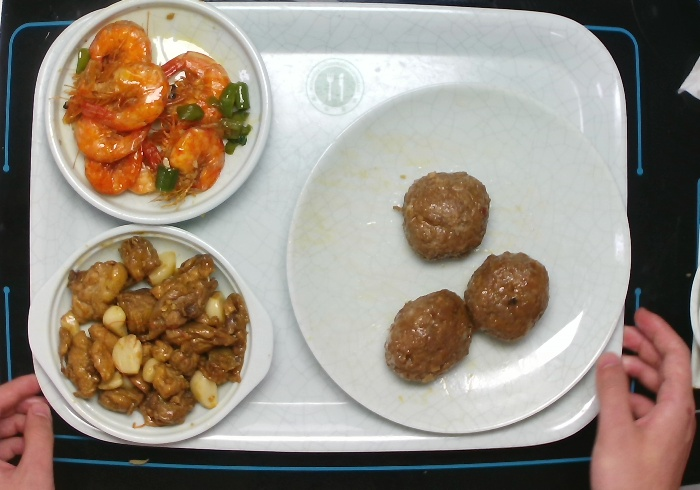JYsf-Da_Yuan_Pan: (282, 84, 634, 439)
JYsf-Shuang_Er_Pan: (27, 224, 280, 448)
JYsf-Xiao_Yuan_Pan: (44, 6, 272, 227)
